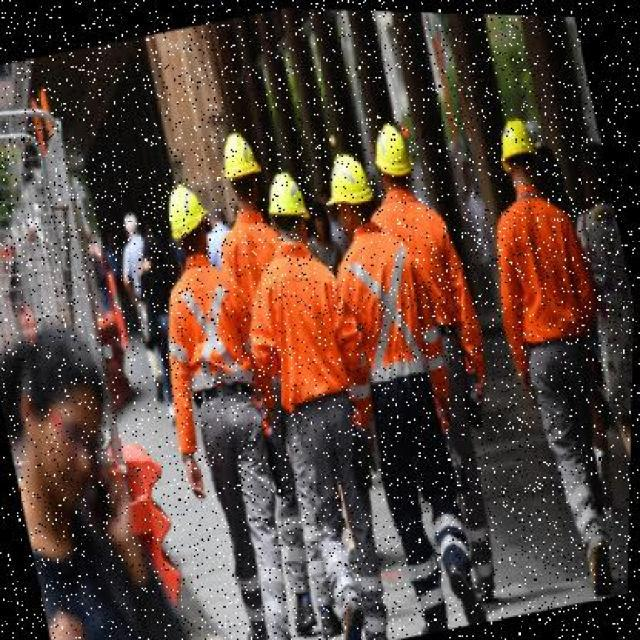helmet: (156, 172, 219, 248), (259, 160, 319, 236), (491, 108, 551, 182), (317, 146, 379, 214), (366, 114, 421, 190), (215, 129, 271, 189)
vest: (320, 197, 446, 401), (480, 177, 606, 367), (374, 175, 490, 369), (248, 234, 362, 421), (154, 250, 266, 420)
